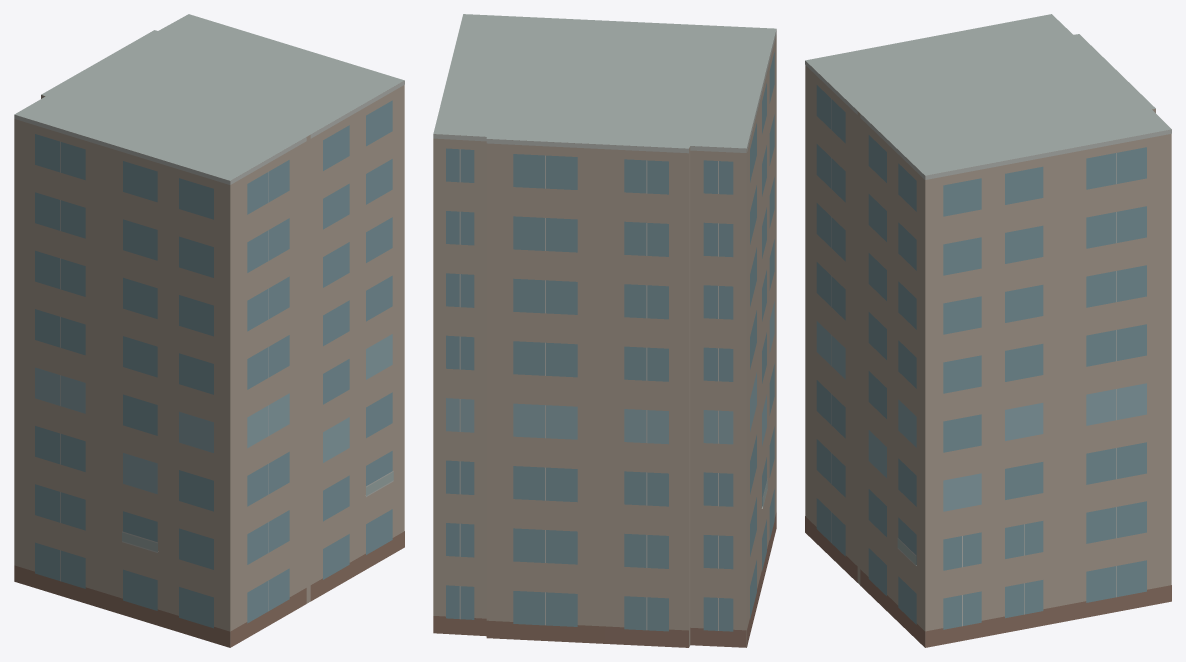
The model's file is survey-upis-32561318.glb.
3 views of the same model, side by side, from view 1: azimuth 30°, elevation 25°; view 2: azimuth 150°, elevation 25°; view 3: azimuth 270°, elevation 25° (orthographic). The views are drawn at different scales.
Parts seen in each view (by area): view 1: survey-upis-32561318.tmp; view 2: survey-upis-32561318.tmp; view 3: survey-upis-32561318.tmp.
Boxes of the visible parts, left/top/right/bottom form: survey-upis-32561318.tmp: left=14, top=14, right=404, bottom=647; survey-upis-32561318.tmp: left=433, top=14, right=776, bottom=647; survey-upis-32561318.tmp: left=805, top=14, right=1171, bottom=647.
Bounding box in the file's own units: 19.48 × 26.5 × 18.66.
